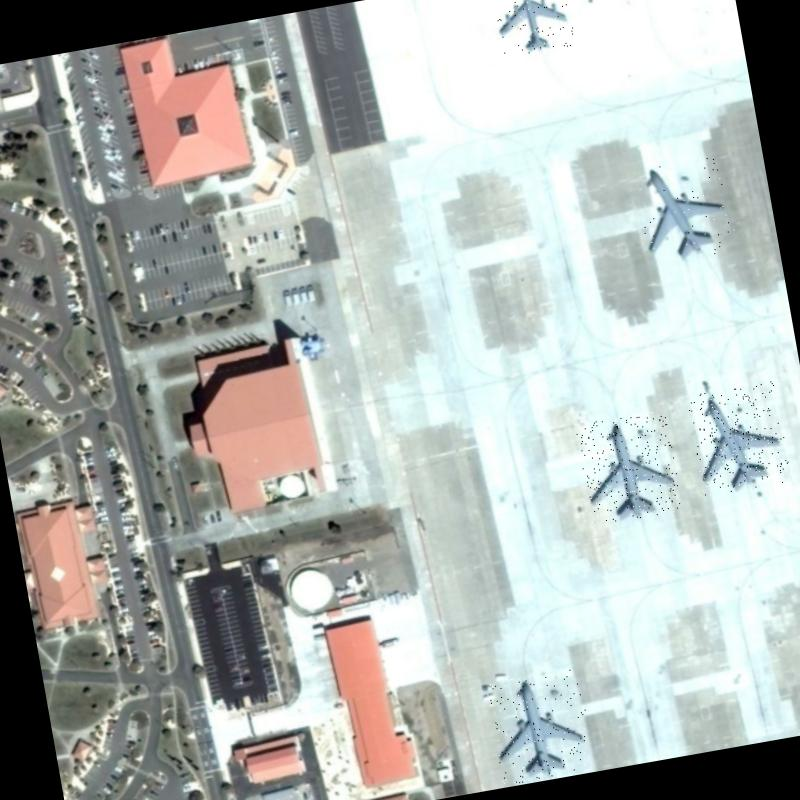A14: (491, 0, 576, 58)
A18: (485, 667, 596, 786), (575, 409, 683, 526), (687, 380, 792, 496), (632, 153, 738, 266)
